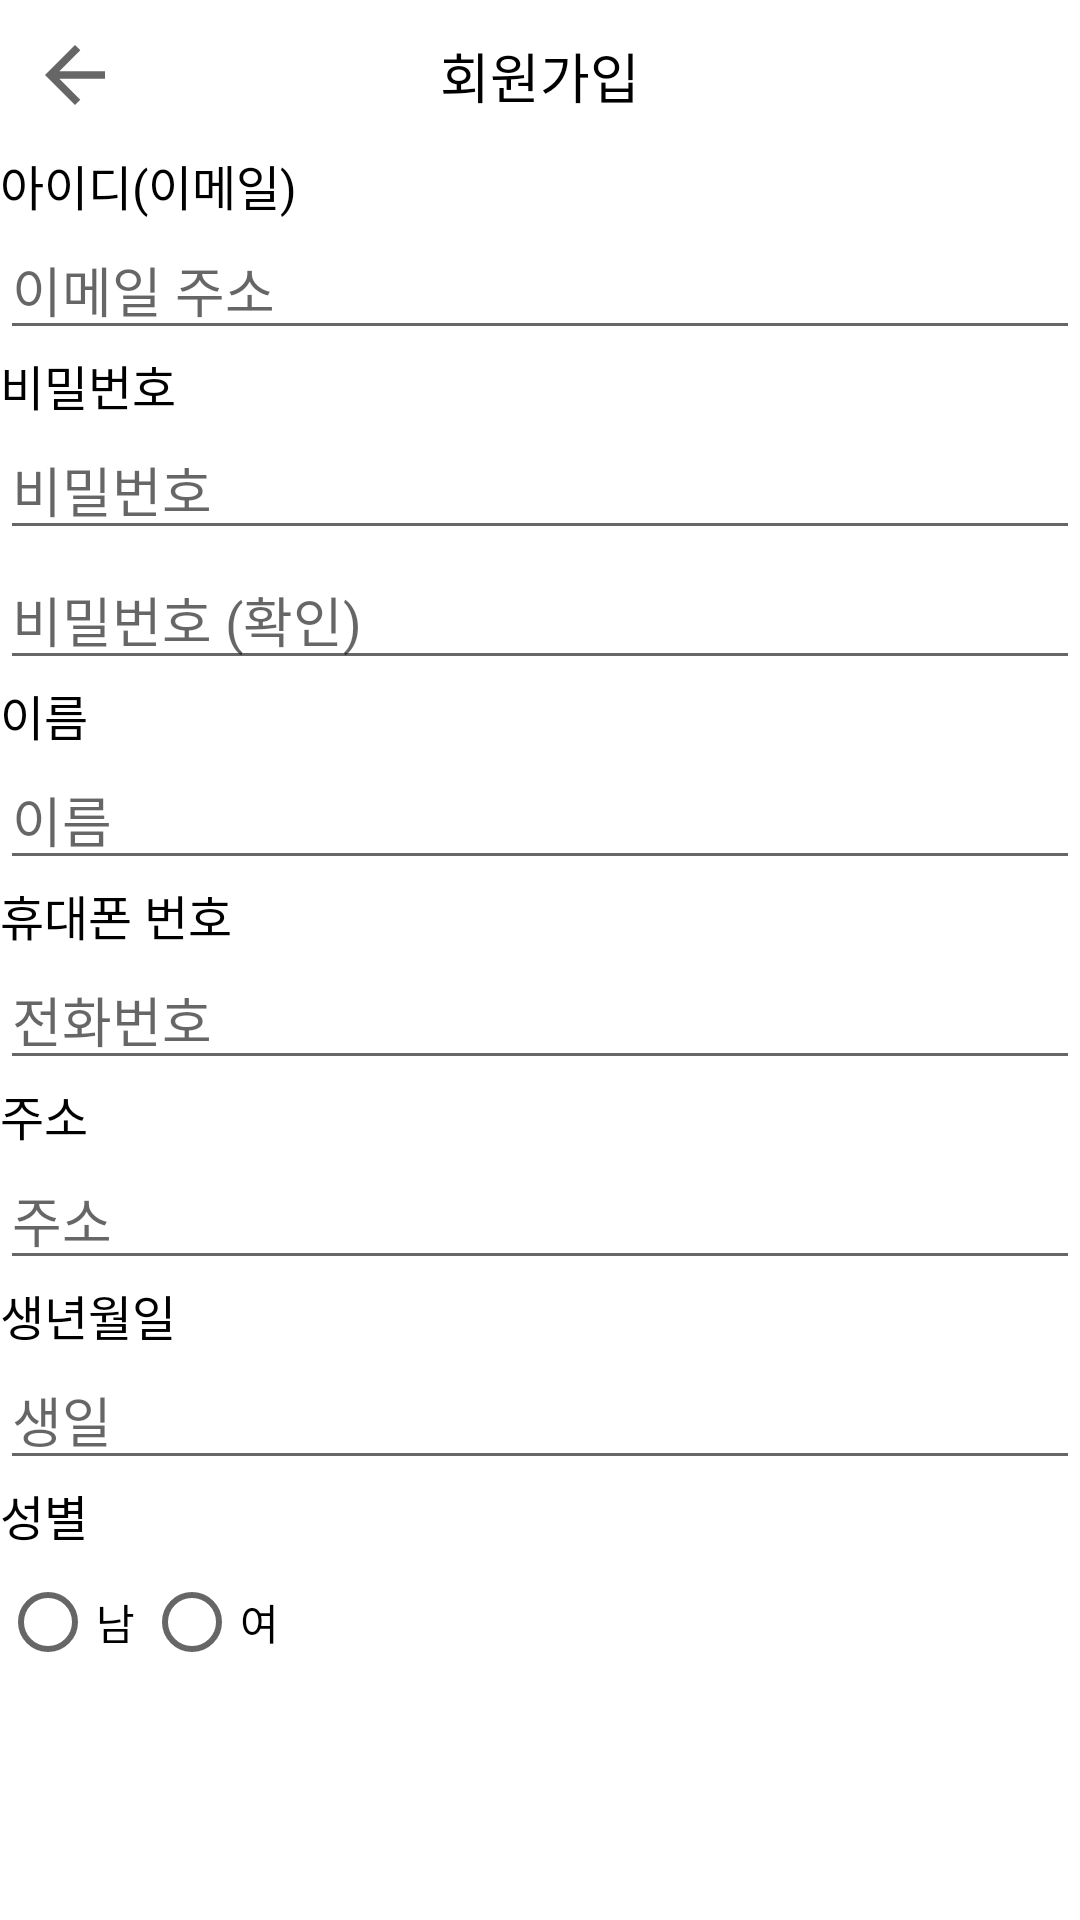

Locate icon controls on the screen. Image size 1080px x 1920px, boxes as {"x1": x1, "y1": y1, "x2": x2, "y2": y2}.
arrow back: {"x1": 45, "y1": 45, "x2": 105, "y2": 105}
